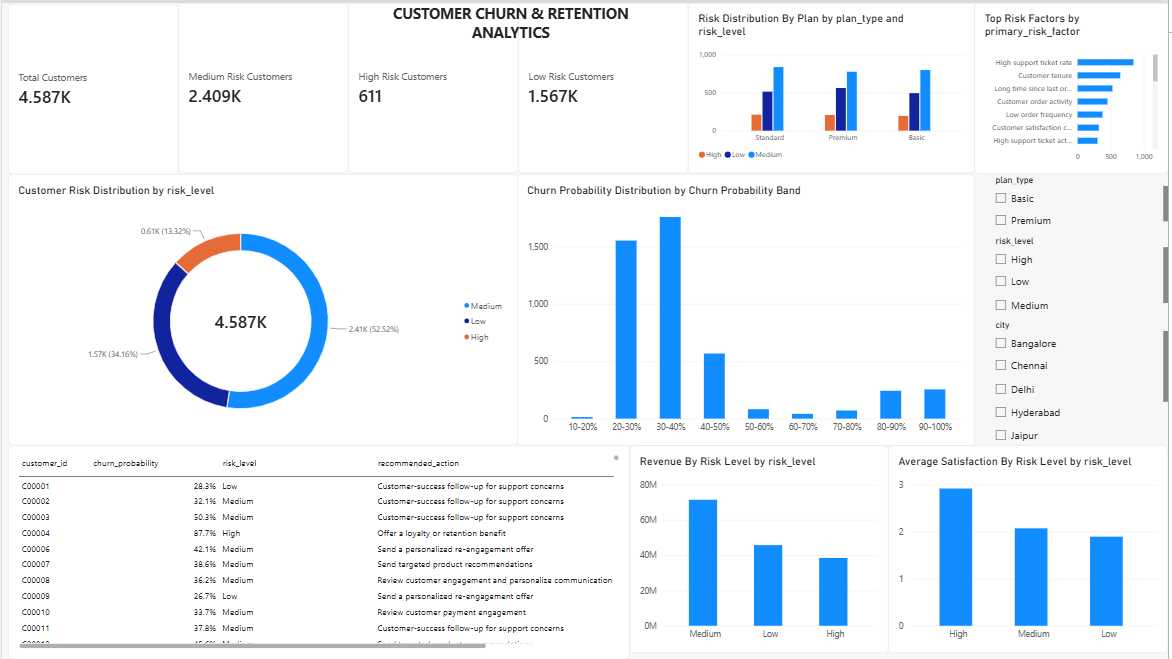

What the dashboard file says about the page in this screenshot:
{"tool":"powerbi","page":{"name":"Page 1","canvas":[1920,1080],"ordinal":0},"visuals":[{"type":"cardVisual","fields":{"Data":["Count(customer_retention_output.customer_id)"]},"box":[10.3,2.1,280,280],"z":0},{"type":"cardVisual","fields":{"Data":["Count(customer_retention_output.customer_id)"]},"box":[570.2,0,280,280],"z":1000},{"type":"cardVisual","fields":{"Data":["Count(customer_retention_output.customer_id)"]},"box":[290.2,0,280,280],"z":2000},{"type":"cardVisual","fields":{"Data":["Count(customer_retention_output.customer_id)"]},"box":[850.1,0,280,280],"z":3000},{"type":"donutChart","fields":{"Category":["customer_retention_output.risk_level"],"Y":["Count(customer_retention_output.customer_id)"]},"box":[10.3,282,839.8,446.7],"z":4000},{"type":"clusteredColumnChart","fields":{"Category":["customer_retention_output.Churn Probability Band"],"Y":["Count(customer_retention_output.customer_id)"]},"box":[849,282.2,753.4,447.2],"z":5000},{"type":"clusteredColumnChart","fields":{"Category":["customer_retention_output.plan_type"],"Series":["customer_retention_output.risk_level"],"Y":["Count(customer_retention_output.customer_id)"]},"box":[1130,0,472,280],"z":6000},{"type":"clusteredBarChart","fields":{"Category":["customer_retention_output.primary_risk_factor"],"Y":["Count(customer_retention_output.customer_id)"]},"box":[1601.4,0,319,282],"z":7000},{"type":"clusteredColumnChart","fields":{"Category":["customer_retention_output.risk_level"],"Y":["Sum(customer_retention_output.total_revenue)"]},"box":[1033.3,728.6,426.1,341.7],"z":8000},{"type":"clusteredColumnChart","fields":{"Category":["customer_retention_output.risk_level"],"Y":["Avg(customer_retention_output.avg_satisfaction_score)"]},"box":[1458.9,728.6,461.1,341.7],"z":9000},{"type":"tableEx","fields":{"Values":["customer_retention_output.customer_id","customer_retention_output.churn_probability","customer_retention_output.risk_level","customer_retention_output.recommended_action"]},"box":[10.3,728.6,1023,352],"z":10000},{"type":"slicer","fields":{"Values":["customer_retention_output.plan_type"]},"box":[1628.1,282,292.3,100.9],"z":11000},{"type":"slicer","fields":{"Values":["customer_retention_output.risk_level"]},"box":[1628.1,382.8,292.3,123.5],"z":12000},{"type":"slicer","fields":{"Values":["customer_retention_output.city"]},"box":[1628.1,520.8,292.3,207.9],"z":13000},{"type":"textbox","box":[636,0,403.4,82.3],"z":14000}]}

Visuals, with their boxes in screenshot pixels (x1, y1, x2, y2), scaled from the page's 1920x1080 canvas onto the 1172x659 screenshot:
cardVisual - Count(customer_retention_output.customer_id): 6:1:177:172
cardVisual - Count(customer_retention_output.customer_id): 348:0:519:171
cardVisual - Count(customer_retention_output.customer_id): 177:0:348:171
cardVisual - Count(customer_retention_output.customer_id): 519:0:690:171
donutChart - customer_retention_output.risk_level x Count(customer_retention_output.customer_id): 6:172:519:445
clusteredColumnChart - customer_retention_output.Churn Probability Band x Count(customer_retention_output.customer_id): 518:172:978:445
clusteredColumnChart - customer_retention_output.plan_type x customer_retention_output.risk_level: 690:0:978:171
clusteredBarChart - customer_retention_output.primary_risk_factor x Count(customer_retention_output.customer_id): 978:0:1171:172
clusteredColumnChart - customer_retention_output.risk_level x Sum(customer_retention_output.total_revenue): 631:445:891:653
clusteredColumnChart - customer_retention_output.risk_level x Avg(customer_retention_output.avg_satisfaction_score): 891:445:1171:653
tableEx - customer_retention_output.customer_id x customer_retention_output.churn_probability: 6:445:631:658
slicer - customer_retention_output.plan_type: 994:172:1171:234
slicer - customer_retention_output.risk_level: 994:234:1171:309
slicer - customer_retention_output.city: 994:318:1171:445
textbox: 388:0:634:50
